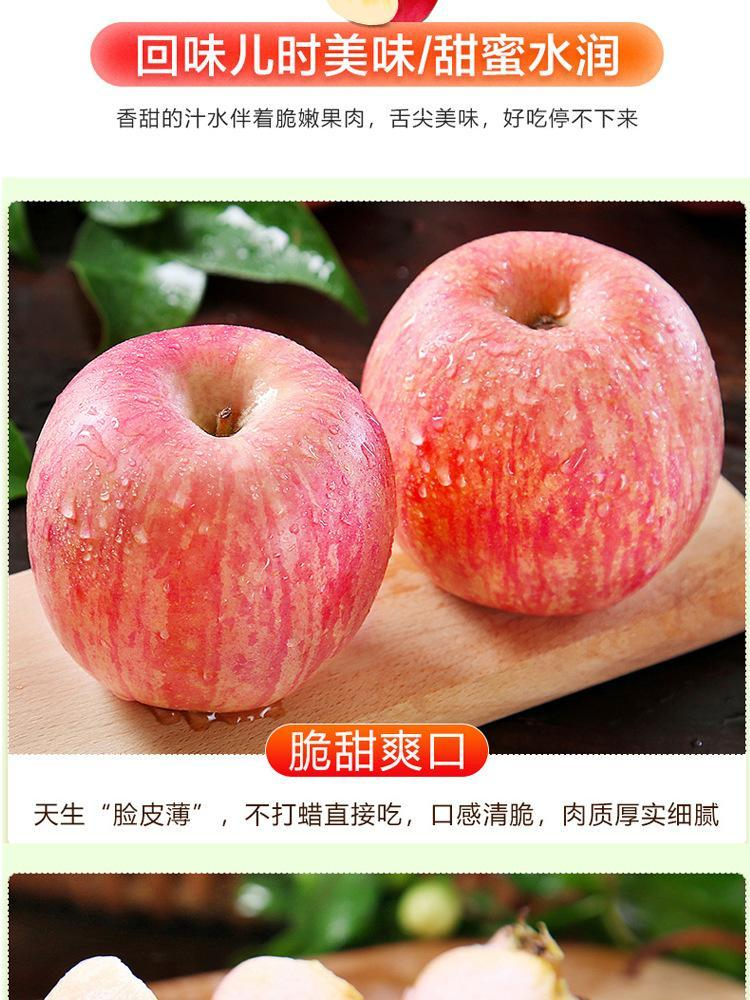apple: (23, 327, 396, 712), (360, 230, 721, 622)
